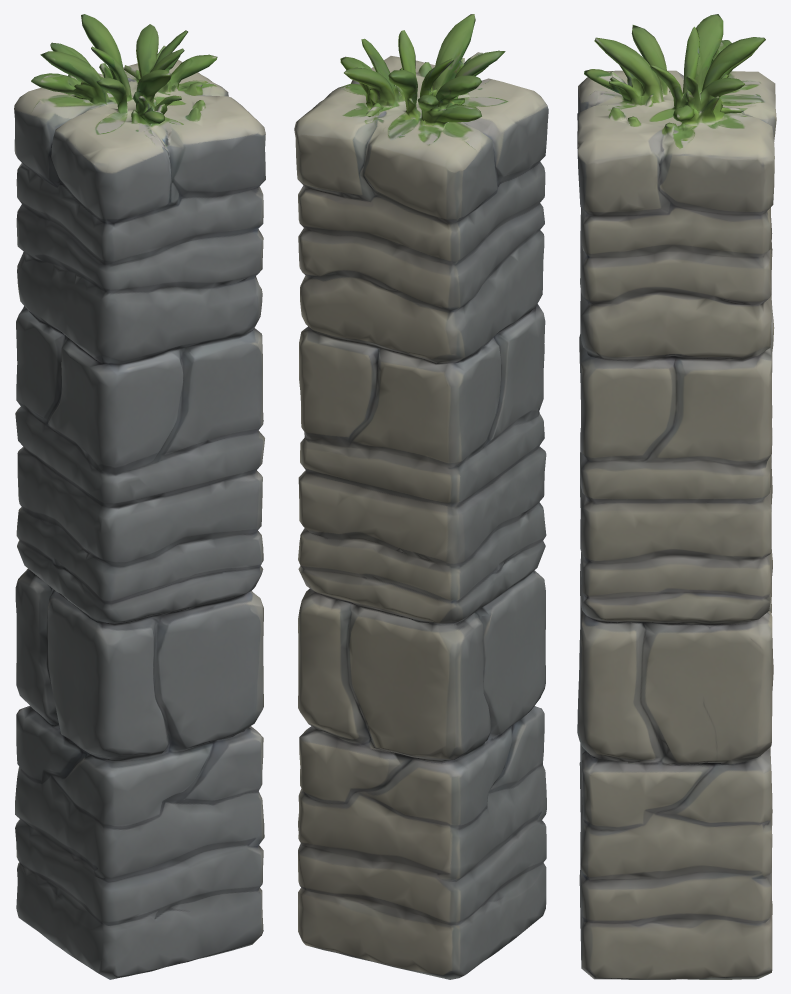
Rendered from Env_RockPillar.fbx.
The picture shows the model from 3 angles, left to right: view 1: azimuth 30°, elevation 25°; view 2: azimuth 150°, elevation 25°; view 3: azimuth 270°, elevation 25°; orthographic projection.
Parts seen in each view (by area): view 1: texture_mapping; view 2: texture_mapping; view 3: texture_mapping.
Part boxes in pixels (box(x1,y1,x2,y2)): texture_mapping: box(14, 14, 265, 979); texture_mapping: box(294, 14, 548, 979); texture_mapping: box(577, 14, 776, 979).
Bounding box in the file's own units: 0.2016 × 0.2007 × 1.
Materials: 1 (1 with a texture image).
